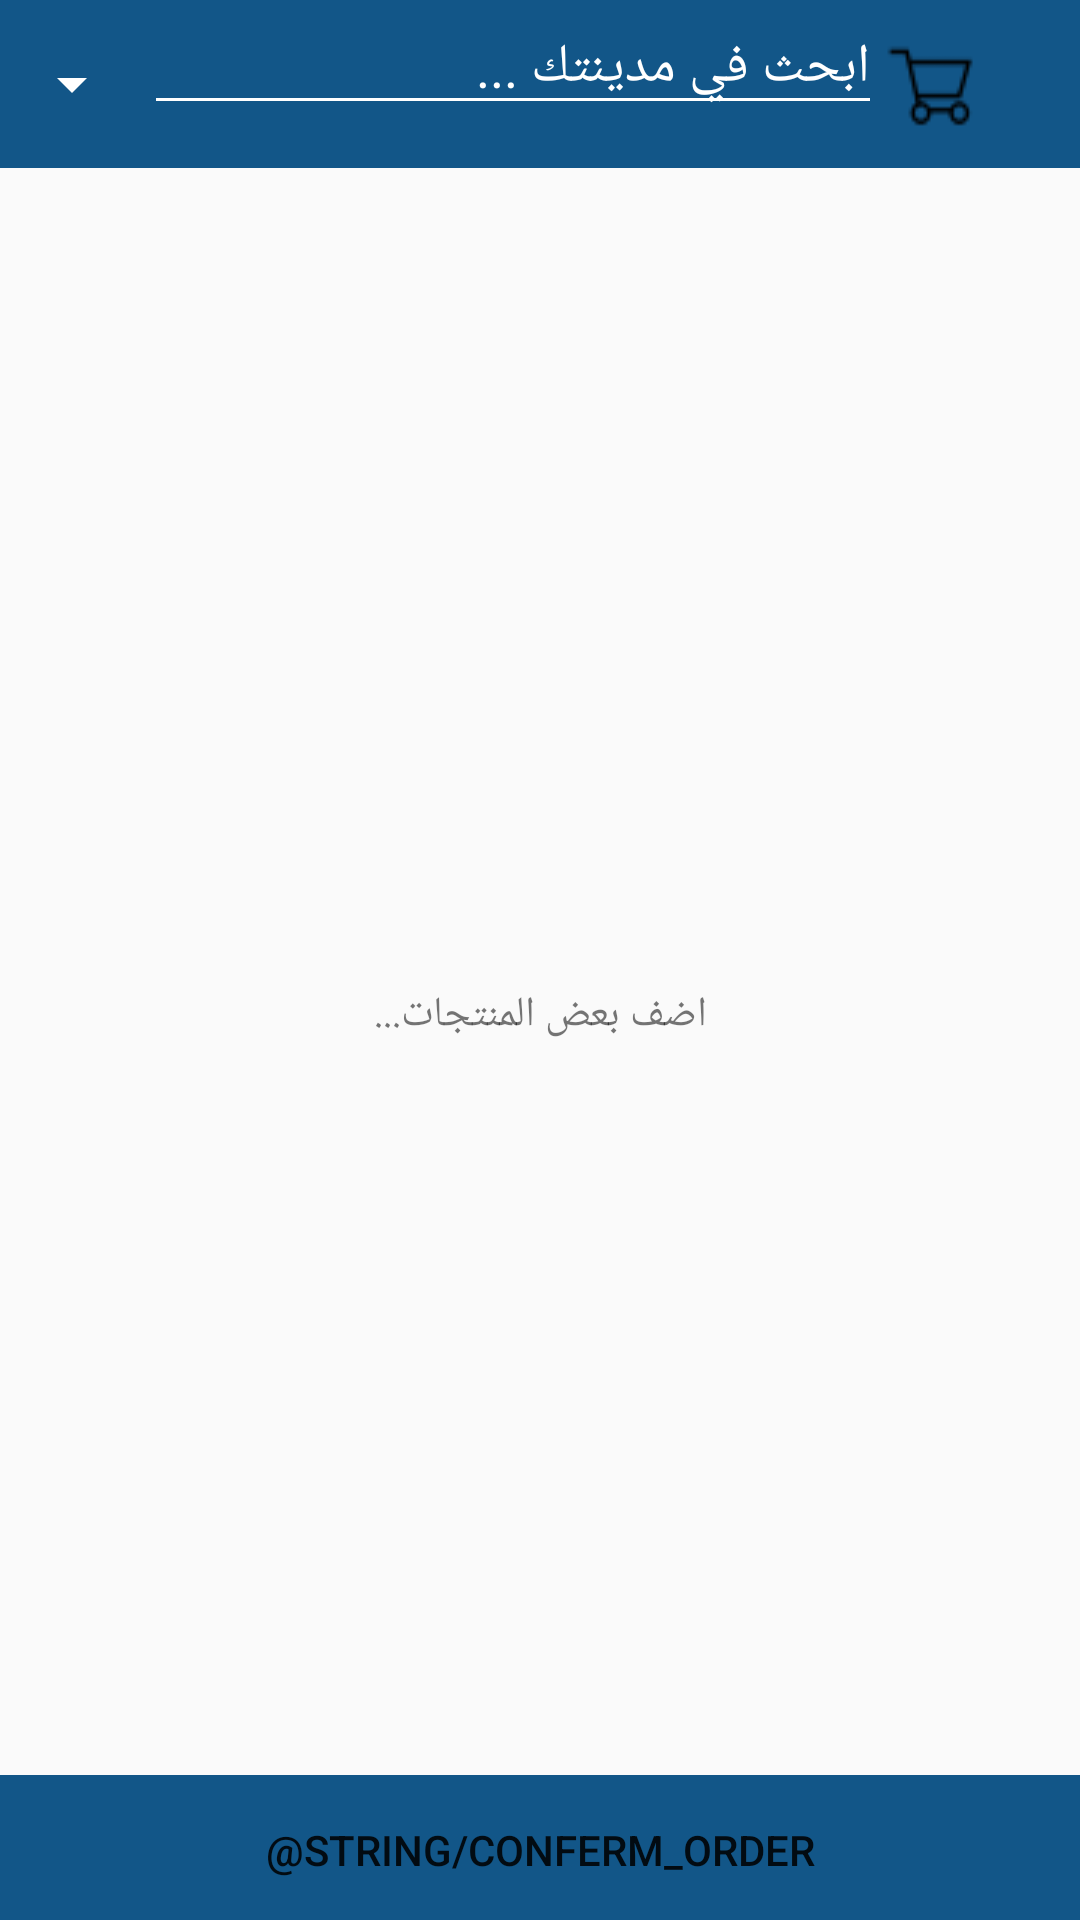

Icons on this 1080w x 1920h Android screen, each with the point to tap as (x,y):
cart: (930,87)
